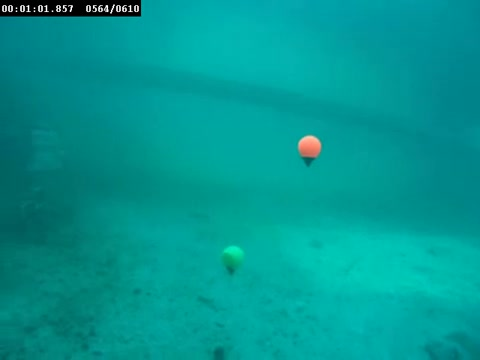buoy_green: (220, 244, 244, 277)
buoy_red: (297, 133, 322, 166)
